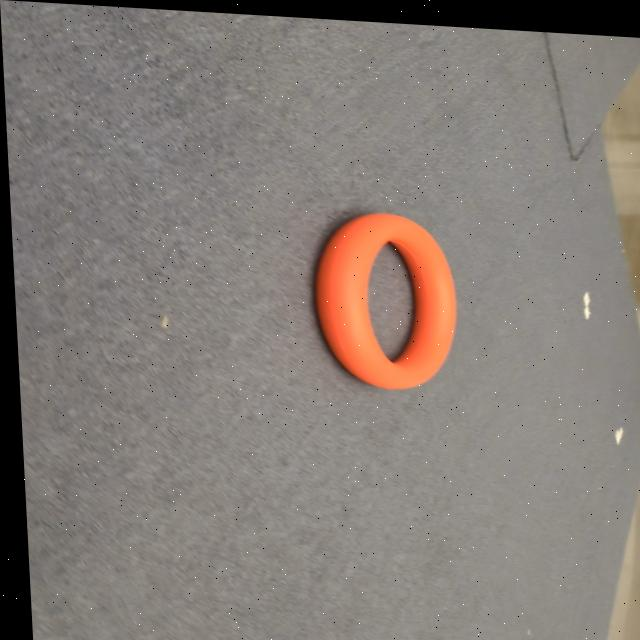note: (305, 201, 454, 384)
